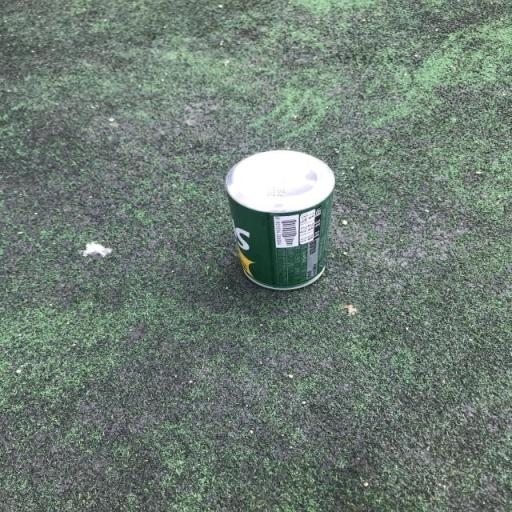metal: (216, 136, 350, 301)
